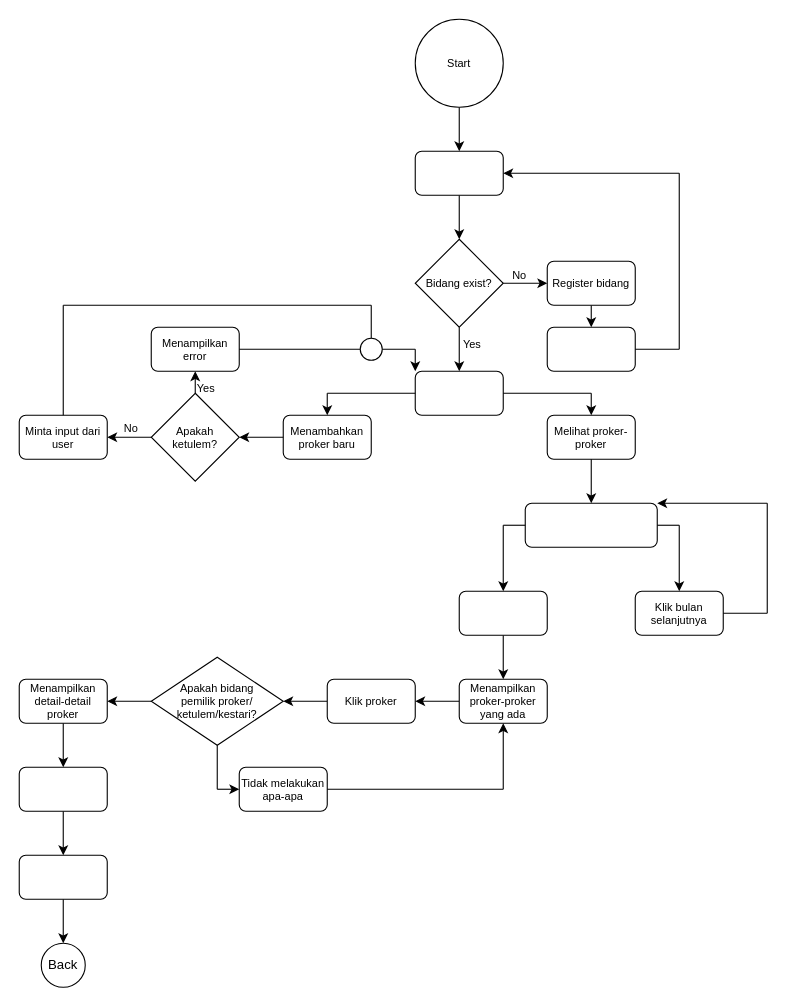
The diagram is 795 pixels wide and 1007 high, and some of its shapes have lost their labels. The shapes that lost their labels are listed below. From the top down, each one's centre as x and y in pixels, then its label:
(458,172): Login bidang
(590,348): Meminta input dari user
(458,392): Masuk ke main menu
(590,524): Menampilkan proker berdasarkan bulan dan tanggal
(502,612): Klik tanggal
(62,788): Menambahkan milestone-milestone
(62,876): Mengedit status dan deskripsi milestone
